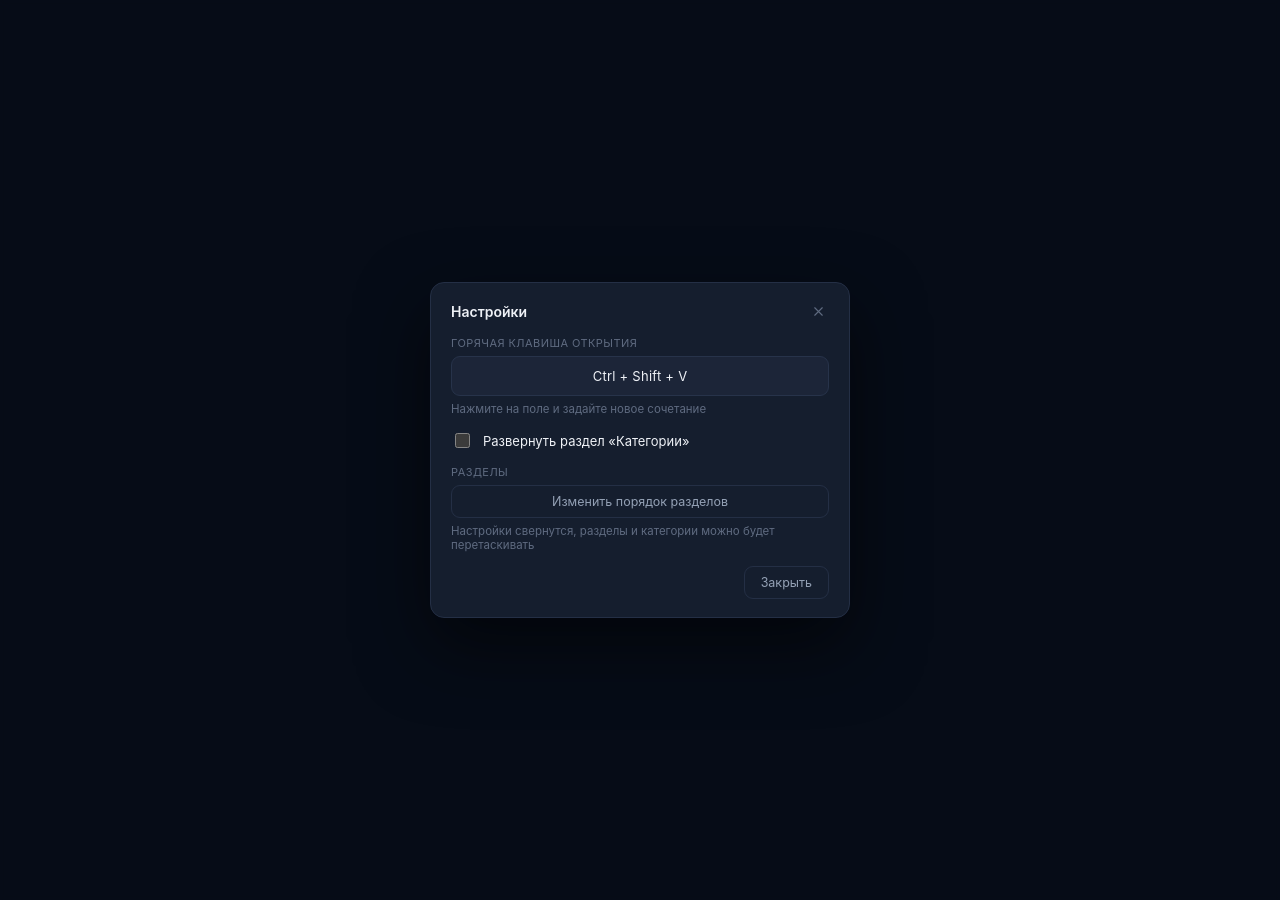
Scenario: SettingsDialog › keeps the old hotkey visible and explains a rejected combination
Click the button with aria-label "Горячая клавиша открытия": (640, 376) [451,356,829,396]
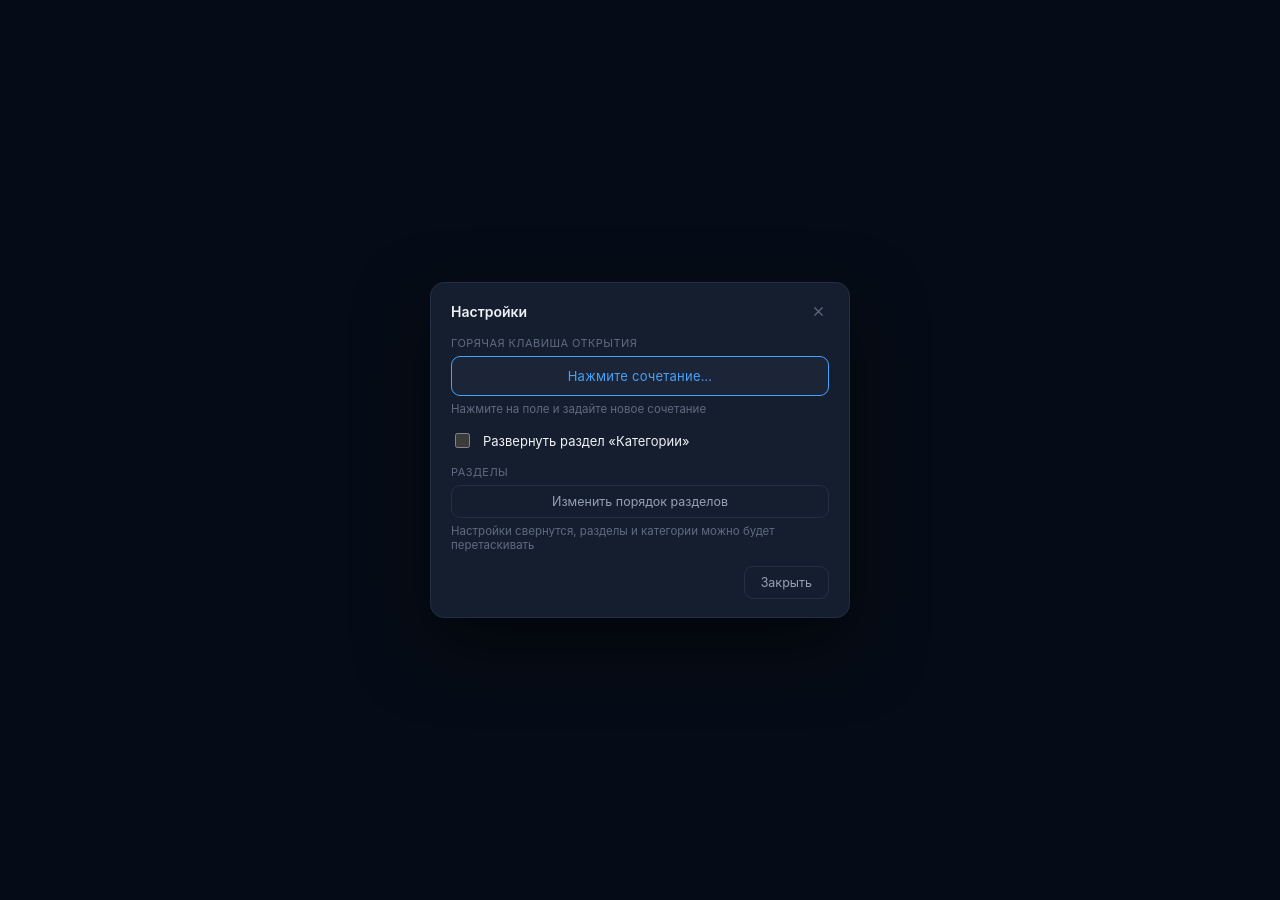
expect the button "Нажмите сочетание…" is shown: met
Press b in the button "Нажмите сочетание…", box [451,356,829,396]
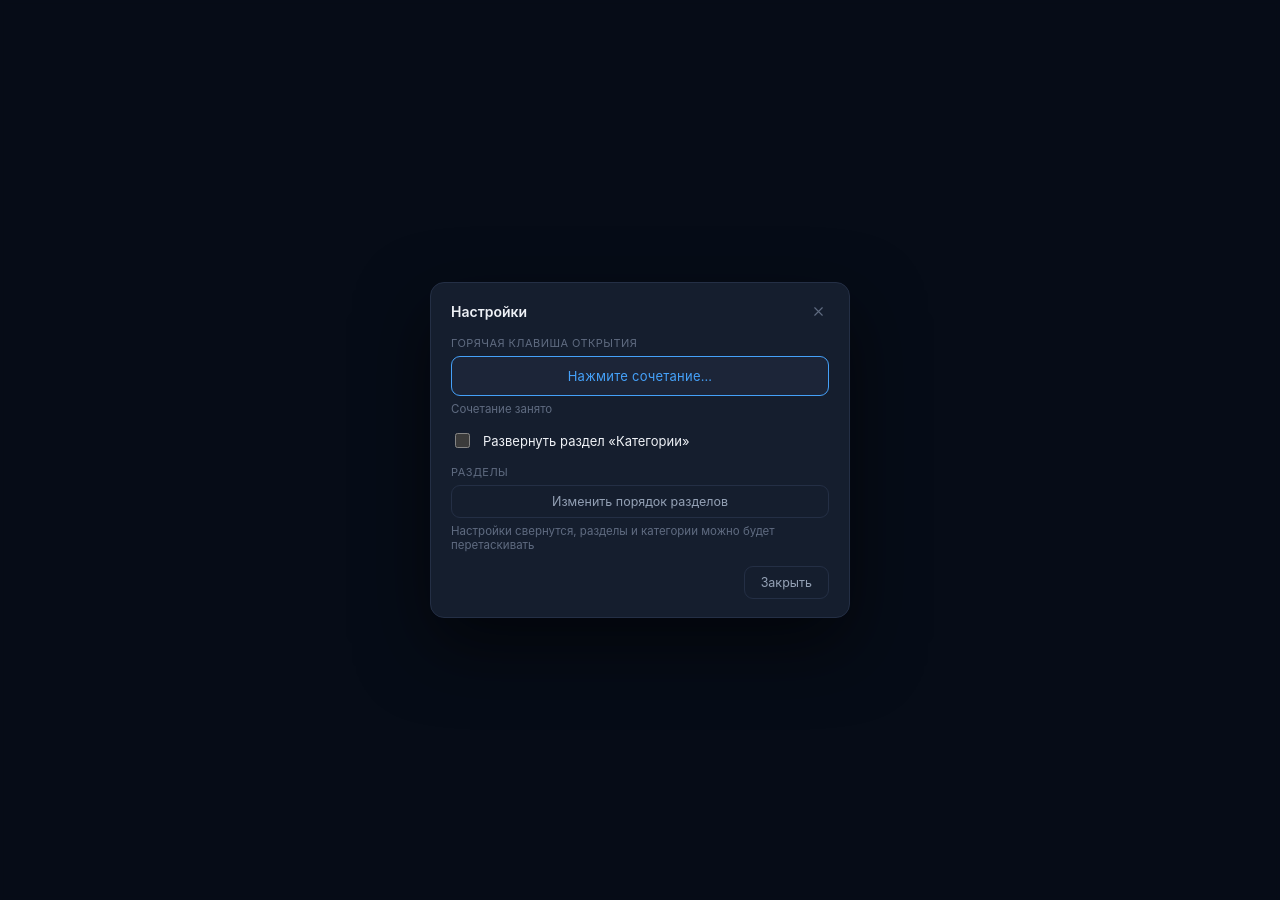
expect the text "Сочетание занято" is shown: met, box [451,402,552,416]
